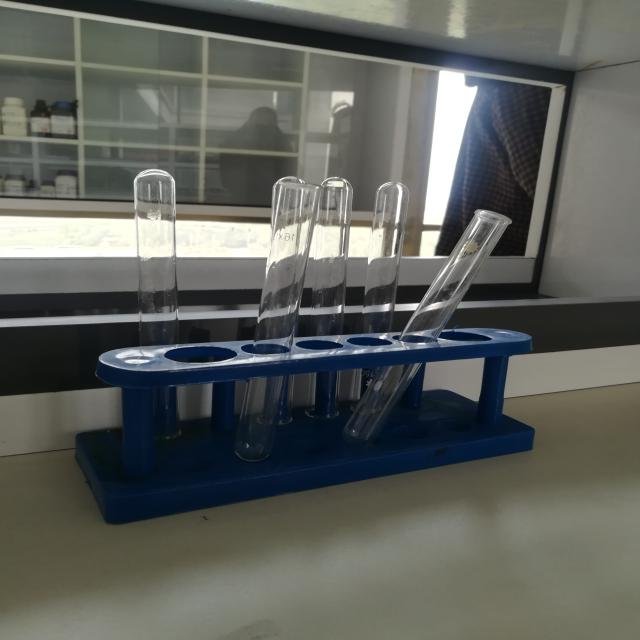Test_Tube: (84, 110, 552, 528)
